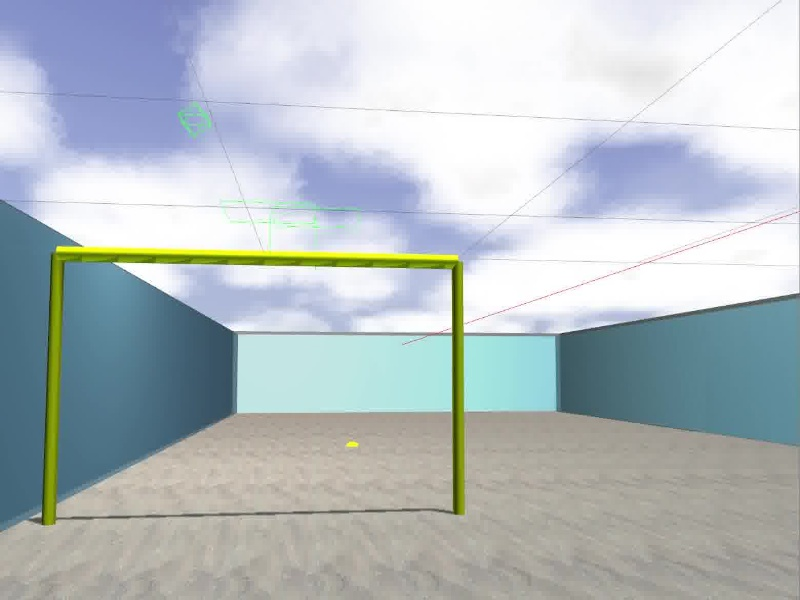gate: (42, 245, 465, 526)
